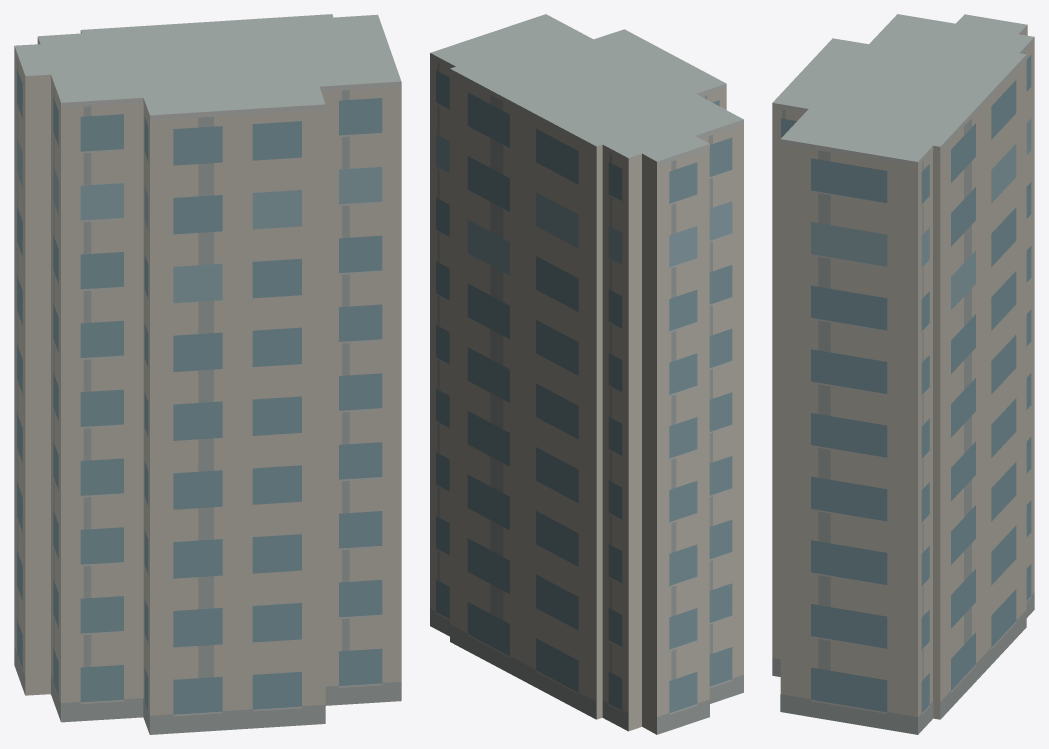
File: survey-upis-32879221.glb
3 views of the same model, side by side, from view 1: azimuth 30°, elevation 25°; view 2: azimuth 150°, elevation 25°; view 3: azimuth 270°, elevation 25° (orthographic). The views are drawn at different scales.
Parts seen in each view (by area): view 1: survey-upis-32879221.tmp; view 2: survey-upis-32879221.tmp; view 3: survey-upis-32879221.tmp.
Boxes of the visible parts, x1,y1,x2,y2 form: survey-upis-32879221.tmp: [14, 14, 401, 734]; survey-upis-32879221.tmp: [430, 14, 743, 734]; survey-upis-32879221.tmp: [772, 14, 1034, 734].
Size of the model in its own units: 15.77 by 28.45 by 11.81.
